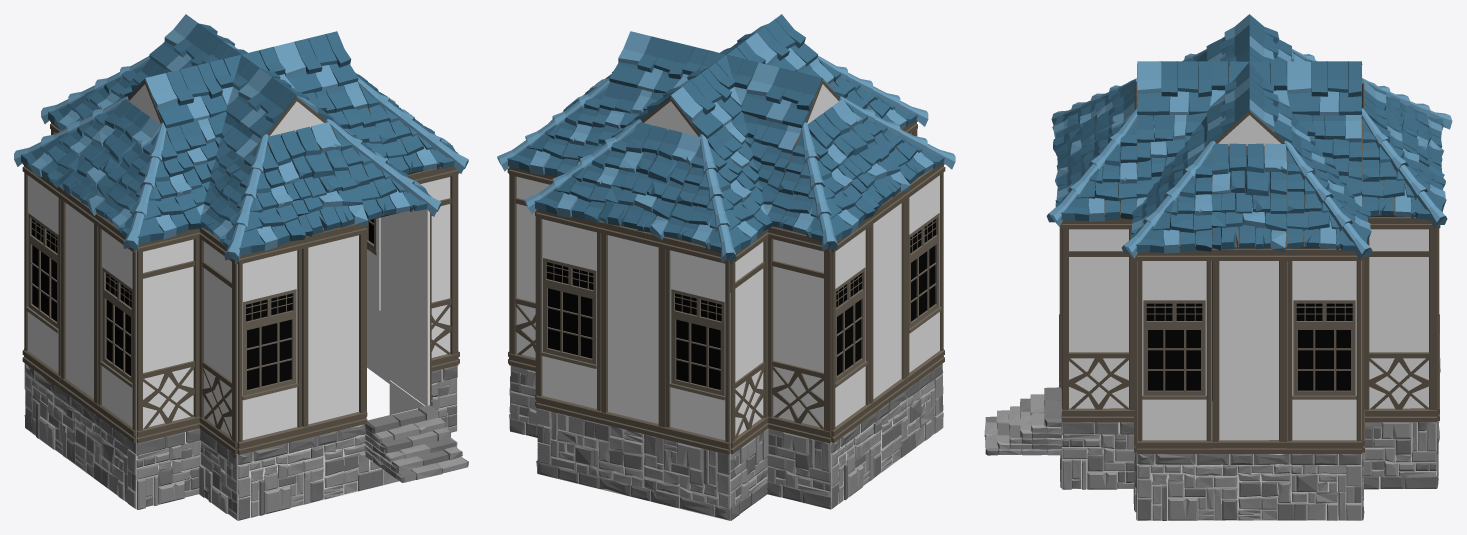
Rendered from House_03_parts.glb.
The picture shows the model from 3 angles, left to right: view 1: azimuth 30°, elevation 25°; view 2: azimuth 150°, elevation 25°; view 3: azimuth 270°, elevation 25°; orthographic projection.
Visible parts, largest first — view 1: WALL_03_3, WINDOW_04_3, WALL_04_4, FOUNDATION_02_10, WINDOW_04_4, WALL_04_3, WALL_04_10, WALL_03_4, WINDOW_04_5, FOUNDATION_02_11, ROOF_base_3, ROOF_corner_out_3 (+24 smaller); view 2: WALL_03_5, WINDOW_04_6, WINDOW_04_7, WALL_04_5, FOUNDATION_02_12, WALL_03_4, WINDOW_04_5, WALL_04_6, WINDOW_04_4, FOUNDATION_02_11, ROOF_base_5, ROOF_corner_out_6 (+21 smaller); view 3: WALL_03_6, WINDOW_04_8, WINDOW_04_9, FOUNDATION_02_13, WALL_04_7, WALL_04_10, ROOF_base_4, ROOF_corner_out_5, ROOF_corner_out_4, ROOF_corner_out_2, ROOF_corner_out_7, FOUNDATION_03_17 (+19 smaller).
Boxes of the visible parts, <box> form: WALL_03_3: <box>302,223,367,438</box>; WINDOW_04_3: <box>237,240,303,454</box>; WALL_04_4: <box>136,228,200,443</box>; FOUNDATION_02_10: <box>237,408,417,520</box>; WINDOW_04_4: <box>96,214,136,442</box>; WALL_04_3: <box>199,228,237,454</box>; WALL_04_10: <box>390,209,432,406</box>; WALL_03_4: <box>59,187,98,415</box>; WINDOW_04_5: <box>22,163,61,388</box>; FOUNDATION_02_11: <box>25,364,136,509</box>; ROOF_base_3: <box>267,122,367,236</box>; ROOF_corner_out_3: <box>200,134,305,262</box>; WALL_03_5: <box>600,221,665,438</box>; WINDOW_04_6: <box>664,237,730,454</box>; WINDOW_04_7: <box>536,209,601,423</box>; WALL_04_5: <box>767,226,831,443</box>; FOUNDATION_02_12: <box>537,408,729,520</box>; WALL_03_4: <box>869,190,907,415</box>; WINDOW_04_5: <box>831,217,870,442</box>; WALL_04_6: <box>730,229,768,454</box>; WINDOW_04_4: <box>906,163,945,388</box>; FOUNDATION_02_11: <box>831,364,943,508</box>; ROOF_base_5: <box>599,122,700,239</box>; ROOF_corner_out_6: <box>663,134,772,262</box>; WALL_03_6: <box>1212,248,1286,453</box>; WINDOW_04_8: <box>1287,248,1361,453</box>; WINDOW_04_9: <box>1137,248,1211,453</box>; FOUNDATION_02_13: <box>1137,454,1361,520</box>; WALL_04_7: <box>1364,217,1436,422</box>; WALL_04_10: <box>1062,217,1134,422</box>; ROOF_base_4: <box>1211,143,1287,252</box>; ROOF_corner_out_5: <box>1121,140,1216,258</box>; ROOF_corner_out_4: <box>1283,140,1372,260</box>; ROOF_corner_out_2: <box>1046,108,1137,226</box>; ROOF_corner_out_7: <box>1361,108,1447,228</box>; FOUNDATION_03_17: <box>1062,422,1134,489</box>.
Size of the model in its own units: 5.41 by 5.59 by 6.24.
1 material, 1 textured.
